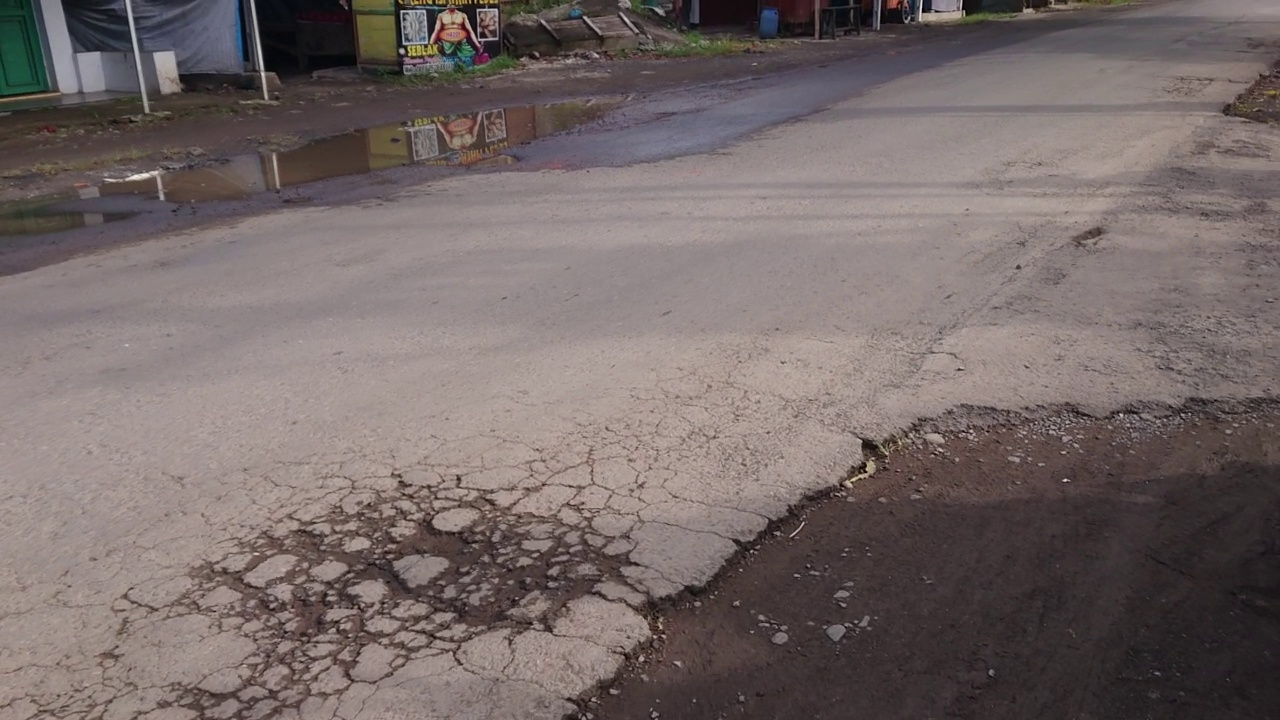Retak: (185, 410, 683, 701)
